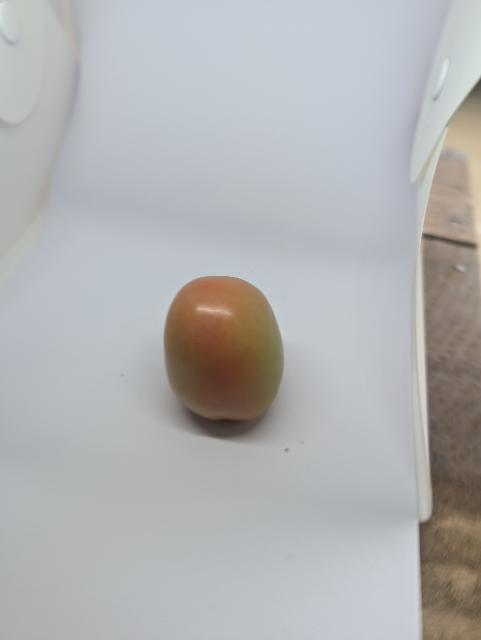turning: (155, 270, 293, 431)
